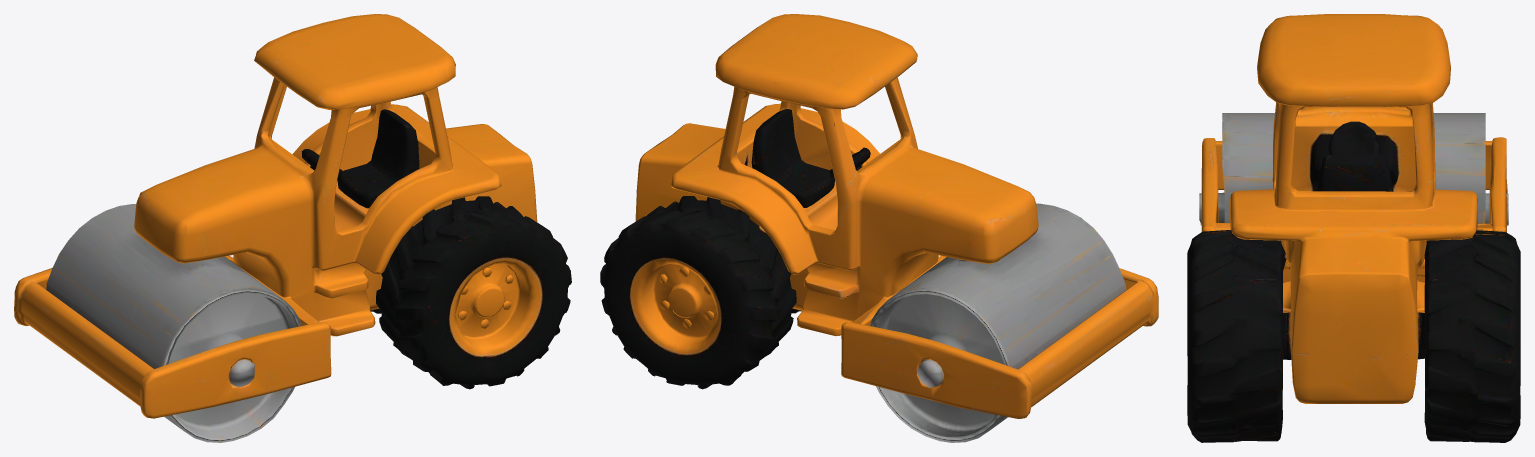
File: veh-roller.glb
3 renders of one model, left to right at view 1: azimuth 30°, elevation 25°; view 2: azimuth 150°, elevation 25°; view 3: azimuth 270°, elevation 25°, orthographic. The views are drawn at different scales.
Bounding box in the file's own units: 1.48 × 1 × 0.8617.
Materials: 1 (1 with a texture image).
